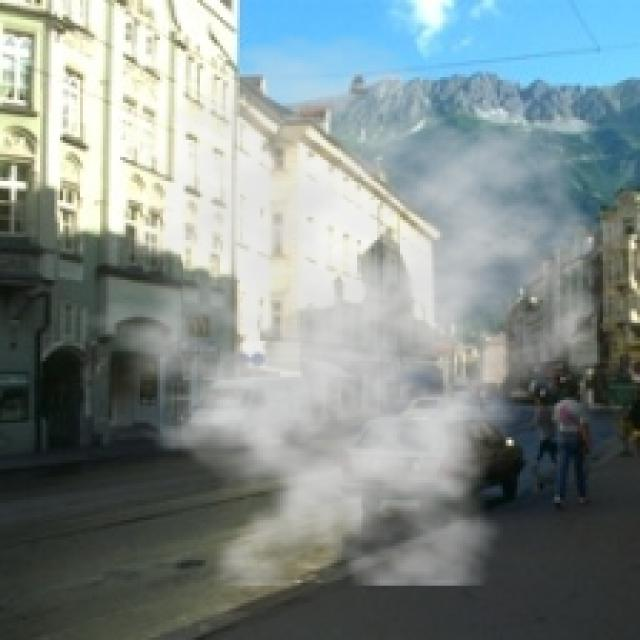smoke: (60, 31, 629, 586)
